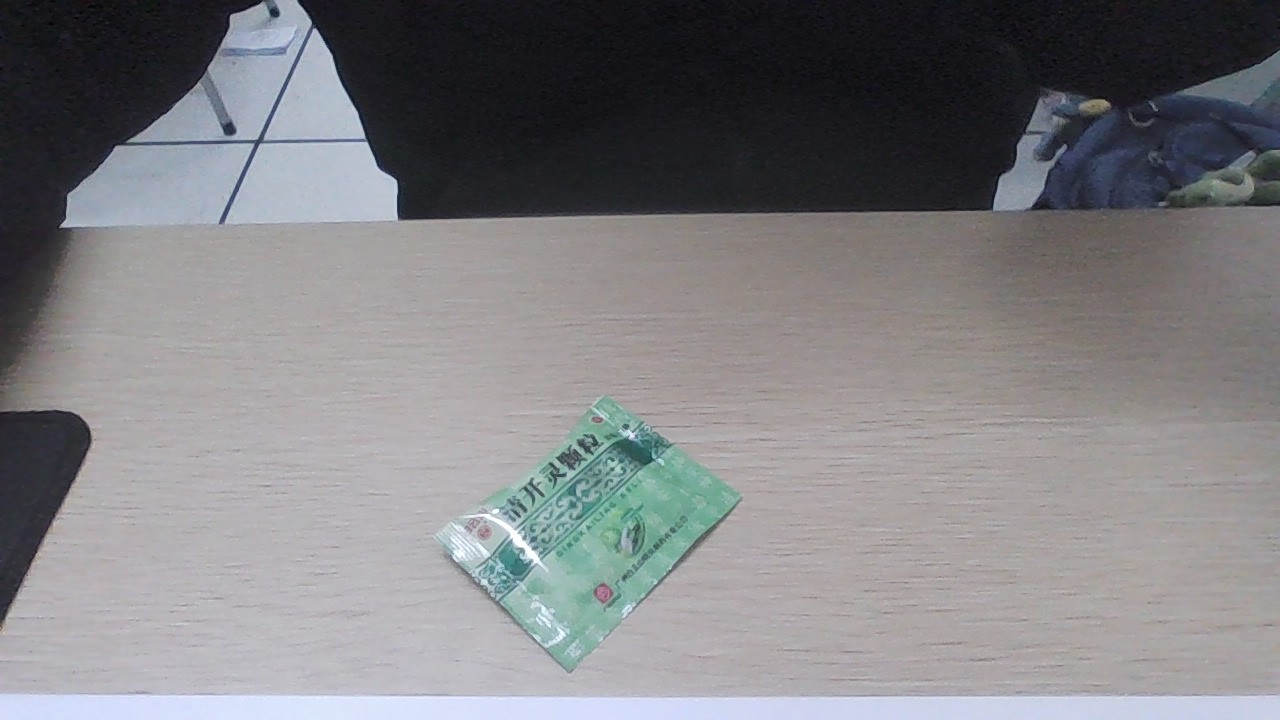YH-green medicine: (453, 415, 737, 626)
